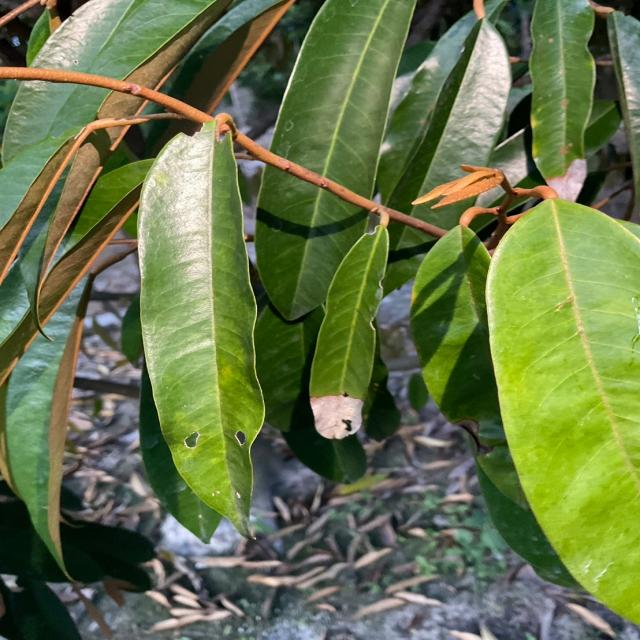Leaf Blight: (310, 230, 387, 435)
